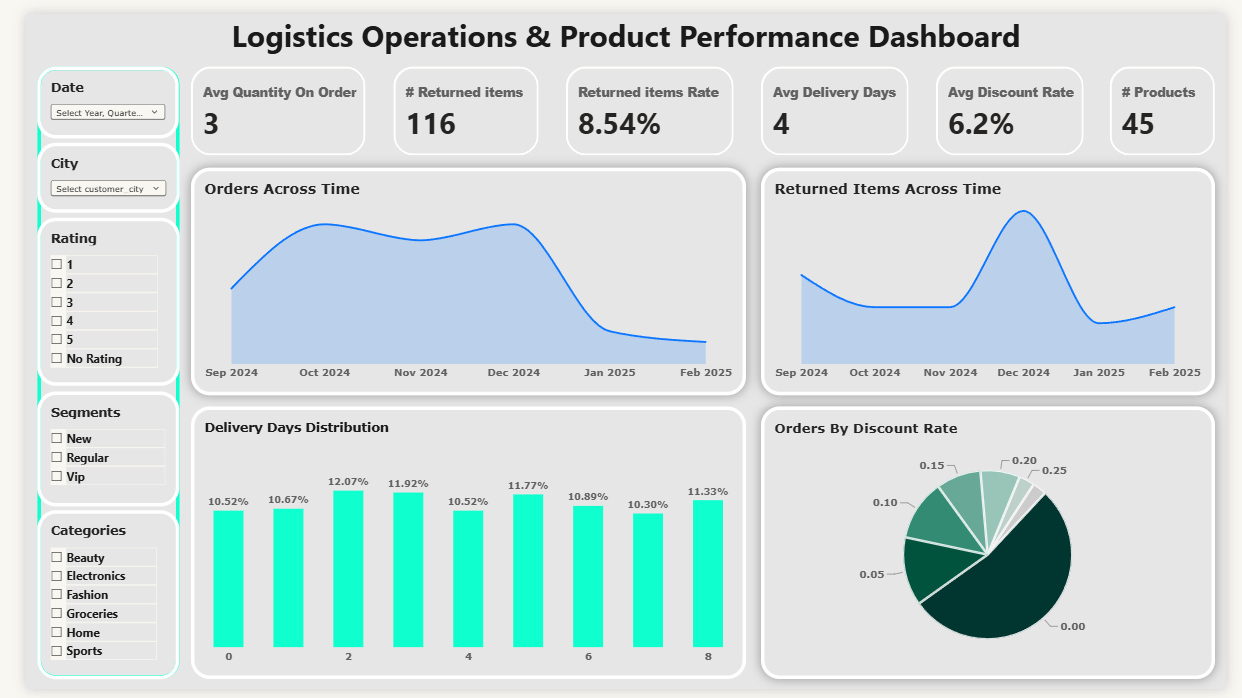

The dashboard page shown, as its layout file describes it:
{"tool":"powerbi","page":{"name":"Page 1","canvas":[1920,1080],"ordinal":0},"visuals":[{"type":"shape","box":[18.8,84.4,228,980],"z":0},{"type":"cardVisual","fields":{"Data":["Total_Quantity.Avg Quantity On Order"]},"box":[264.8,83.6,279.9,142],"z":1000},{"type":"cardVisual","fields":{"Data":["python_automation_sales_orders (2).Avg Delivery Days"]},"box":[1175.6,83.6,236,142],"z":2000},{"type":"cardVisual","fields":{"Data":["python_automation_sales_orders (2).# Returned items"]},"box":[588.3,83.6,232,142],"z":3000},{"type":"cardVisual","fields":{"Data":["python_automation_sales_orders (2).Avg Discount Rate"]},"box":[1455.2,83.6,236,142],"z":4000},{"type":"cardVisual","fields":{"Data":["python_automation_sales_orders (2).# Products"]},"box":[1734.8,83.6,168,142],"z":5000},{"type":"cardVisual","fields":{"Data":["python_automation_sales_orders (2).Returned items Rate"]},"box":[864,83.6,268,142],"z":6000},{"type":"lineChart","title":"Orders Across Time","fields":{"Category":["python_automation_sales_orders (2).order_date.Variation.Date Hierarchy.Year","python_automation_sales_orders (2).order_date.Variation.Date Hierarchy.Quarter","python_automation_sales_orders (2).order_date.Variation.Date Hierarchy.Month"],"Y":["python_automation_sales_orders (2).# Orders"]},"box":[264.4,246,888,364],"z":7000},{"type":"columnChart","title":"Delivery Days Distribution","fields":{"Category":["python_automation_sales_orders (2).delivery_days"],"Y":["python_automation_sales_orders (2).Count of delivery_days"]},"box":[264,628,888,436],"z":8000},{"type":"lineChart","title":"Returned Items Across Time","fields":{"Category":["python_automation_sales_orders (2).order_date.Variation.Date Hierarchy.Year","python_automation_sales_orders (2).order_date.Variation.Date Hierarchy.Quarter","python_automation_sales_orders (2).order_date.Variation.Date Hierarchy.Month"],"Y":["python_automation_sales_orders (2).# Returned items"]},"box":[1176.4,246,726,364],"z":9000},{"type":"pieChart","title":"Orders By Discount Rate","fields":{"Category":["python_automation_sales_orders (2).discount_pct"],"Y":["CountNonNull(python_automation_sales_orders (2).New Order-id)"]},"box":[1176,628,726,436],"z":10000},{"type":"textbox","box":[0,0,1920,84],"z":11000},{"type":"listSlicer","title":"City","fields":{"Values":["python_automation_sales_orders (2).customer_city"]},"box":[17.3,206.9,228,112],"z":12000},{"type":"listSlicer","title":"Rating","fields":{"Values":["python_automation_sales_orders (2).customer_rating"]},"box":[18.2,326.5,228,269],"z":13000},{"type":"listSlicer","title":"Segments","fields":{"Values":["python_automation_sales_orders (2).customer_segment"]},"box":[17.3,603.1,227.3,183.6],"z":14000},{"type":"listSlicer","title":"Categories","fields":{"Values":["python_automation_sales_orders (2).product_category"]},"box":[18.6,794.3,227.1,270],"z":15000},{"type":"listSlicer","title":"Date","fields":{"Values":["python_automation_sales_orders (2).order_date.Variation.Date Hierarchy.Year","python_automation_sales_orders (2).order_date.Variation.Date Hierarchy.Quarter","python_automation_sales_orders (2).order_date.Variation.Date Hierarchy.Month"]},"box":[18.8,84.4,226.2,115],"z":16000}]}

Visuals, with their boxes in screenshot pixels (x1, y1, x2, y2), scaled from the page's 1920x1080 canvas onto the 1242x698 screenshot:
shape: (x1=12, y1=55, x2=160, y2=688)
cardVisual - Total_Quantity.Avg Quantity On Order: (x1=171, y1=54, x2=352, y2=146)
cardVisual - python_automation_sales_orders (2).Avg Delivery Days: (x1=760, y1=54, x2=913, y2=146)
cardVisual - python_automation_sales_orders (2).# Returned items: (x1=381, y1=54, x2=531, y2=146)
cardVisual - python_automation_sales_orders (2).Avg Discount Rate: (x1=941, y1=54, x2=1094, y2=146)
cardVisual - python_automation_sales_orders (2).# Products: (x1=1122, y1=54, x2=1231, y2=146)
cardVisual - python_automation_sales_orders (2).Returned items Rate: (x1=559, y1=54, x2=732, y2=146)
"Orders Across Time" lineChart: (x1=171, y1=159, x2=745, y2=394)
"Delivery Days Distribution" columnChart: (x1=171, y1=406, x2=745, y2=688)
"Returned Items Across Time" lineChart: (x1=761, y1=159, x2=1231, y2=394)
"Orders By Discount Rate" pieChart: (x1=761, y1=406, x2=1230, y2=688)
textbox: (x1=0, y1=0, x2=1241, y2=54)
"City" listSlicer: (x1=11, y1=134, x2=159, y2=206)
"Rating" listSlicer: (x1=12, y1=211, x2=159, y2=385)
"Segments" listSlicer: (x1=11, y1=390, x2=158, y2=508)
"Categories" listSlicer: (x1=12, y1=513, x2=159, y2=688)
"Date" listSlicer: (x1=12, y1=55, x2=158, y2=129)
